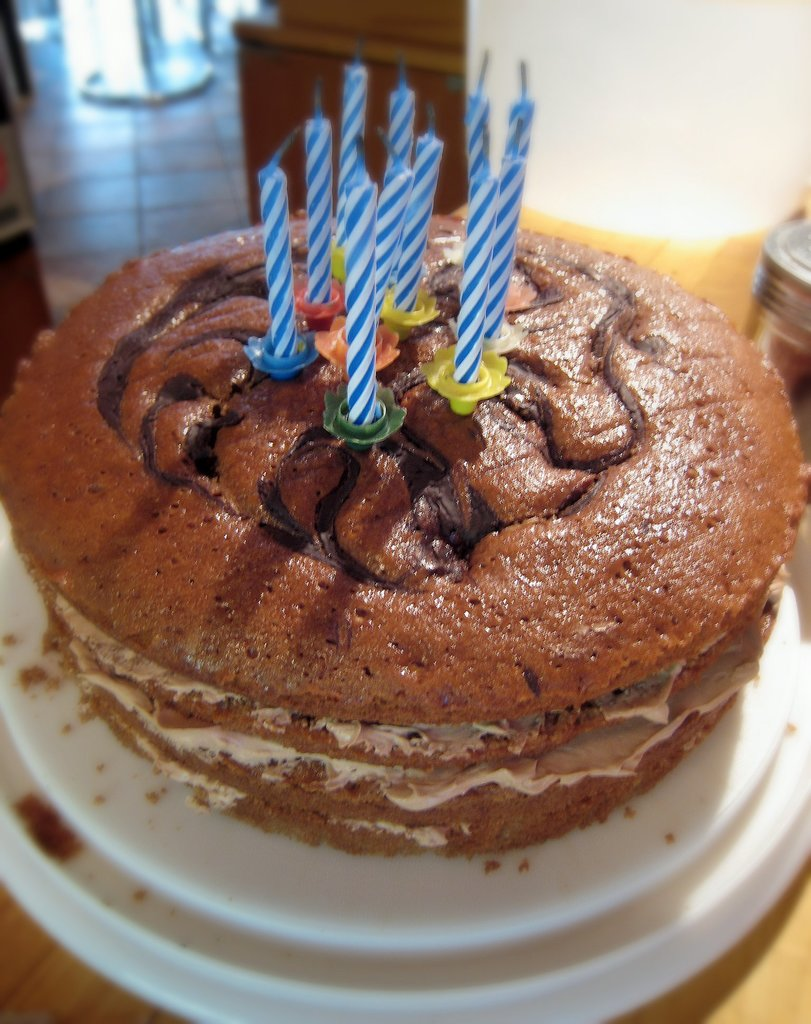cake: (2, 214, 806, 865)
